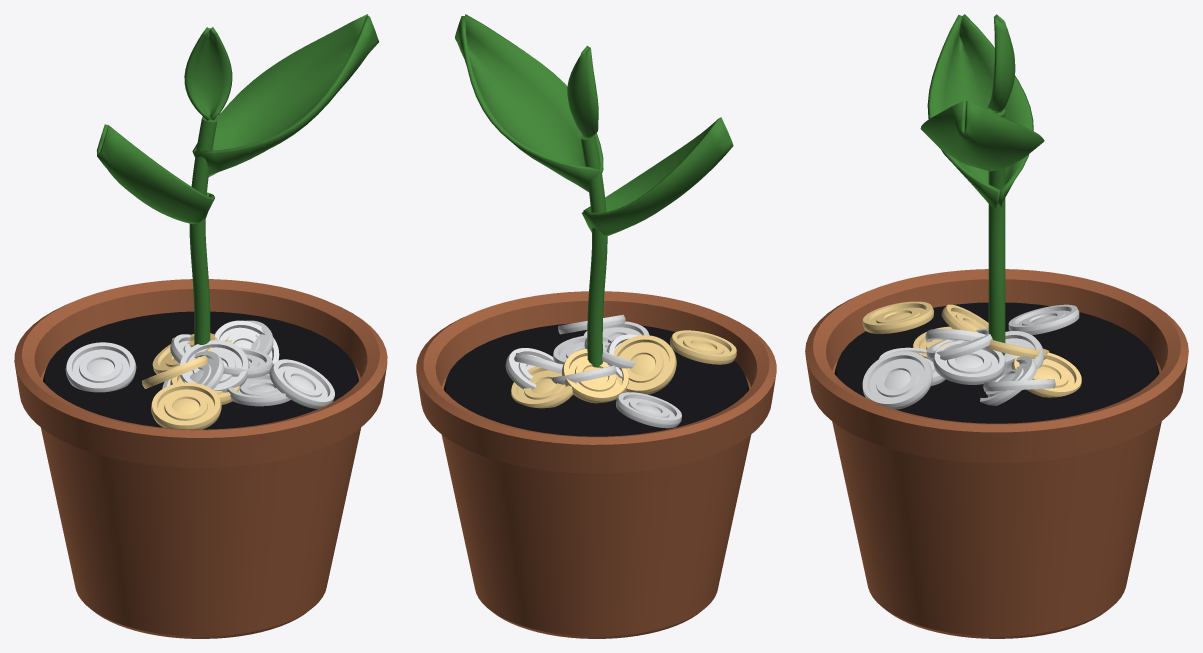
Rendered from sprout.glb.
3 views of the same model, side by side, from view 1: azimuth 30°, elevation 25°; view 2: azimuth 150°, elevation 25°; view 3: azimuth 270°, elevation 25° (orthographic). The views are drawn at different scales.
Visible parts, largest first — view 1: pot, soil, leafR, leafL, bud, stem, c.002, c.012, c.011, c.008, c.007, c.013 (+4 smaller); view 2: pot, soil, leafR, leafL, stem, c.003, bud, c, c.012, c.002, c.009, c.001 (+3 smaller); view 3: pot, soil, leafL, leafR, c.011, stem, c.010, c.012, bud, c.009, c.002, c.013 (+6 smaller).
Part boxes in pixels (bbox=[...]): pot: bbox=[14, 279, 387, 638]; soil: bbox=[43, 311, 358, 429]; leafR: bbox=[192, 14, 378, 176]; leafL: bbox=[96, 124, 214, 224]; bud: bbox=[184, 27, 232, 120]; stem: bbox=[189, 117, 217, 345]; c.002: bbox=[65, 342, 136, 392]; c.012: bbox=[151, 382, 221, 429]; c.011: bbox=[269, 359, 334, 408]; c.008: bbox=[179, 340, 249, 392]; c.007: bbox=[227, 373, 290, 406]; c.013: bbox=[214, 320, 279, 364]; pot: bbox=[416, 291, 776, 638]; soil: bbox=[443, 323, 749, 436]; leafR: bbox=[455, 14, 603, 191]; leafL: bbox=[582, 117, 733, 235]; stem: bbox=[580, 135, 607, 367]; c.003: bbox=[614, 335, 676, 394]; bud: bbox=[567, 45, 598, 138]; c: bbox=[562, 349, 628, 403]; c.012: bbox=[670, 330, 736, 364]; c.002: bbox=[616, 392, 681, 428]; c.009: bbox=[511, 363, 576, 408]; c.001: bbox=[505, 348, 554, 389]; pot: bbox=[805, 269, 1188, 638]; soil: bbox=[834, 302, 1159, 423]; leafL: bbox=[927, 14, 1033, 209]; leafR: bbox=[920, 101, 1044, 171]; c.011: bbox=[862, 351, 932, 409]; stem: bbox=[988, 109, 1005, 355]; c.010: bbox=[933, 340, 1005, 384]; c.012: bbox=[862, 301, 933, 333]; bud: bbox=[987, 14, 1015, 113]; c.009: bbox=[1011, 352, 1081, 397]; c.002: bbox=[1008, 304, 1079, 335]; c.013: bbox=[980, 356, 1036, 405].
Size of the model in its own units: 0.7414 by 1.22 by 0.74.
